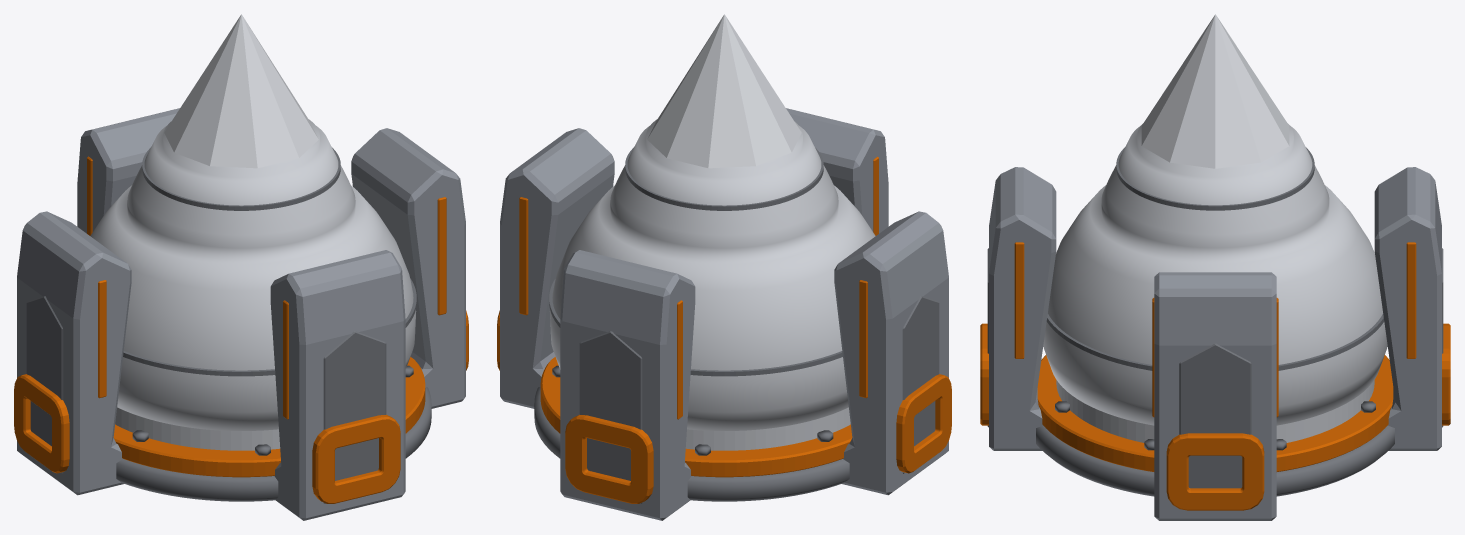
Rendered from drill.glb.
The picture shows the model from 3 angles, left to right: view 1: azimuth 30°, elevation 25°; view 2: azimuth 150°, elevation 25°; view 3: azimuth 270°, elevation 25°; orthographic projection.
Parts seen in each view (by area): view 1: Drill.001; view 2: Drill.001; view 3: Drill.001.
Boxes of the visible parts, <box> form: Drill.001: <box>14,14,468,520</box>; Drill.001: <box>497,14,951,520</box>; Drill.001: <box>980,14,1450,520</box>.
Bounding box in the file's own units: 0.768 × 0.75 × 0.768.
